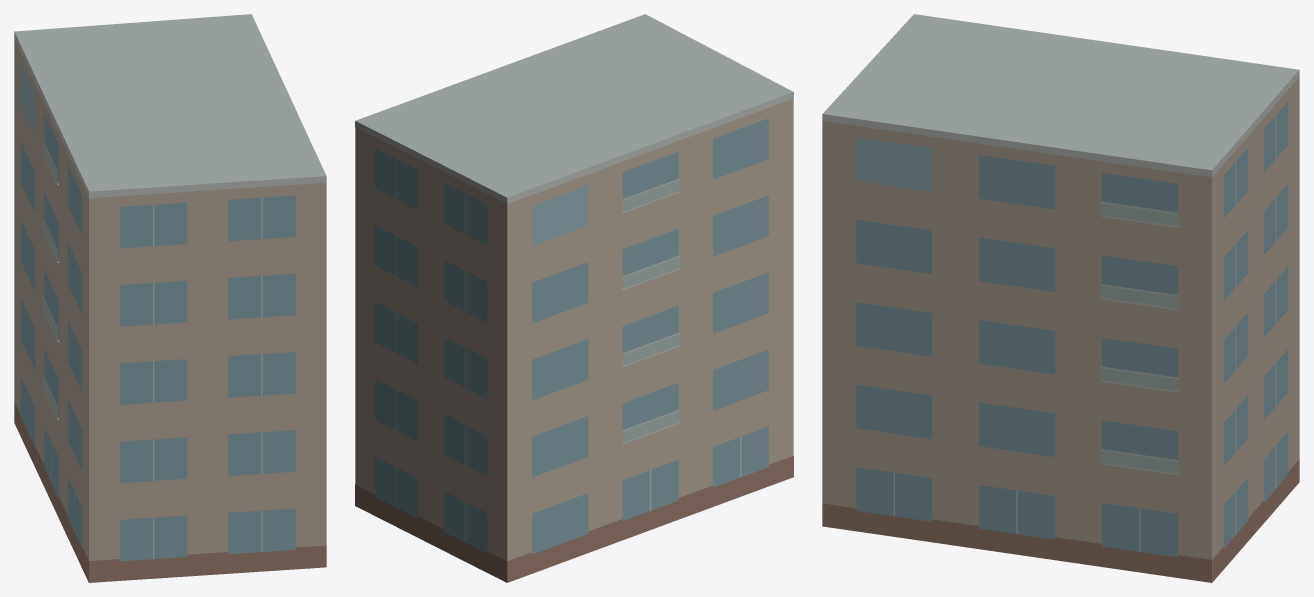
File: survey-upis-32975333.glb
3 renders of one model, left to right at view 1: azimuth 30°, elevation 25°; view 2: azimuth 150°, elevation 25°; view 3: azimuth 270°, elevation 25°, orthographic. The views are drawn at different scales.
Parts seen in each view (by area): view 1: survey-upis-32975333.tmp; view 2: survey-upis-32975333.tmp; view 3: survey-upis-32975333.tmp.
Boxes of the visible parts, x1,y1,x2,y2 form: survey-upis-32975333.tmp: (14,14,326,582); survey-upis-32975333.tmp: (355,14,793,582); survey-upis-32975333.tmp: (822,14,1299,582).
Bounding box in the file's own units: 11.72 × 14.4 × 15.1.
